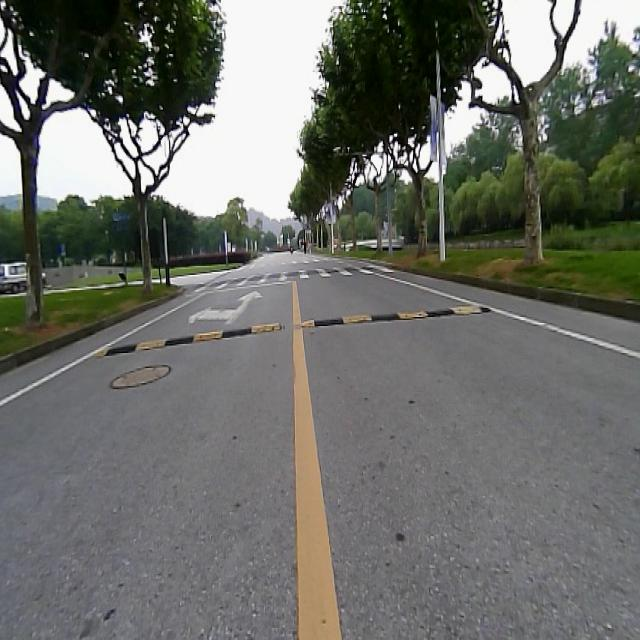Speed Bump: (93, 299, 495, 362)
